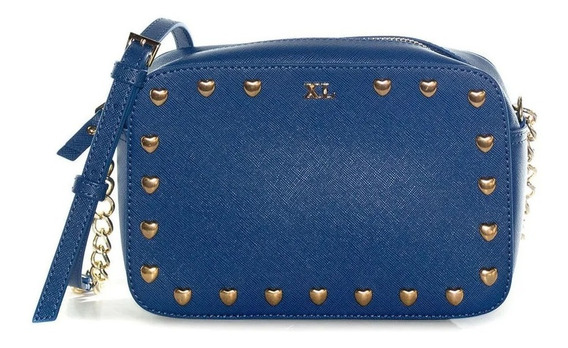cartera: (27, 15, 536, 329)
